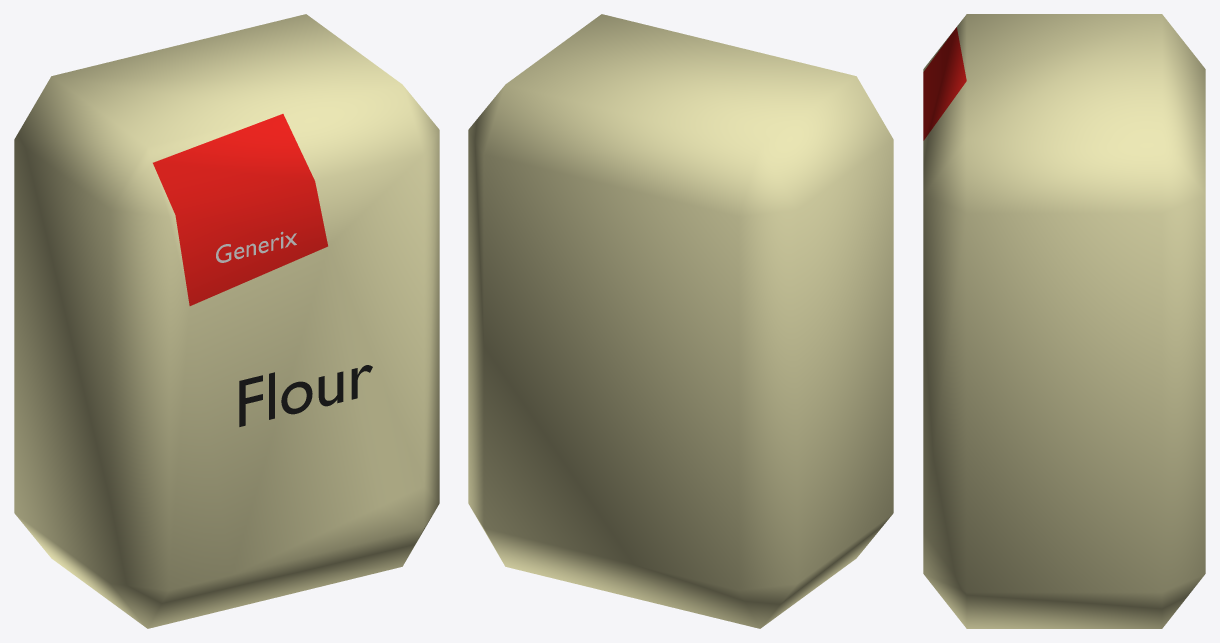
The model's file is Flour.glb.
3 renders of one model, left to right at view 1: azimuth 30°, elevation 25°; view 2: azimuth 150°, elevation 25°; view 3: azimuth 270°, elevation 25°, orthographic.
Visible parts, largest first — view 1: Flour; view 2: Flour; view 3: Flour.
Part boxes in pixels (left/top/right/bottom): Flour: left=14, top=14, right=439, bottom=628; Flour: left=468, top=14, right=893, bottom=628; Flour: left=923, top=14, right=1205, bottom=628.
Bounding box in the file's own units: 2.64 × 3.7 × 1.94.
